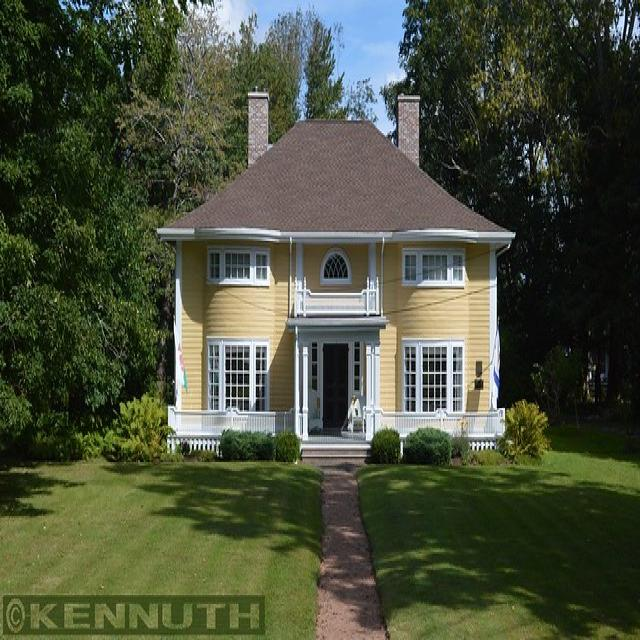building: (153, 91, 514, 468)
